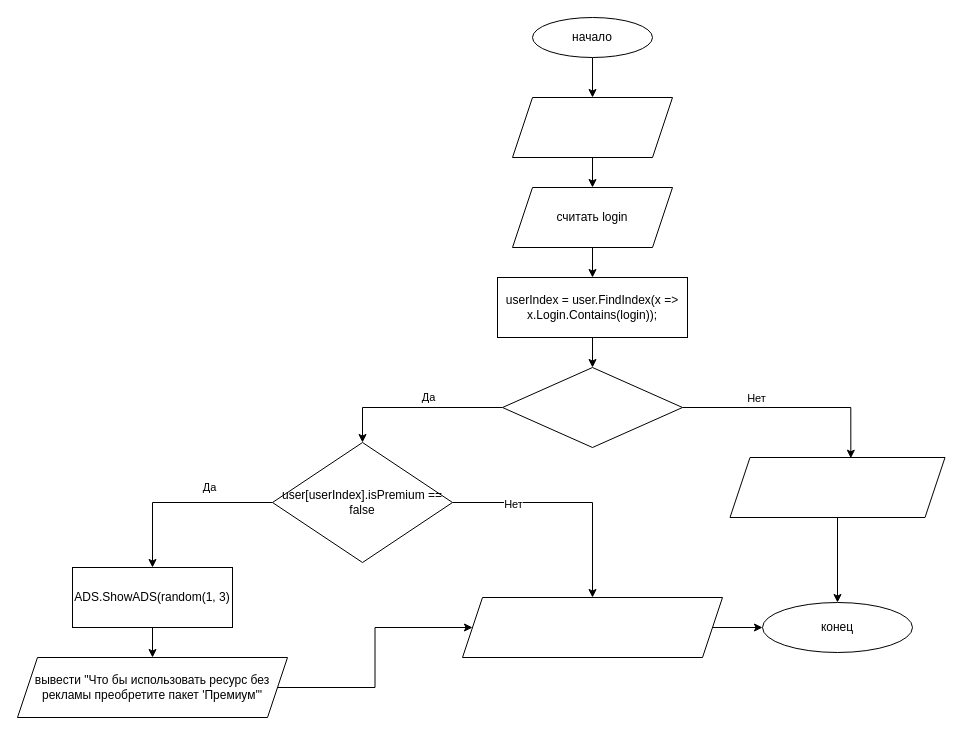
The diagram is 963 pixels wide and 735 high, and some of its shapes have lost their labels. The box of each missing label's shape, as (x1, y1, x2, y2) in pixels:
userIndex > -1: (502, 366, 682, 448)
вывести "{user[userIndex].Name}, добро пожаловать на сайт!": (462, 596, 722, 658)
вывести "Авторизация Введите свой логин:": (512, 96, 672, 158)
вывести "Пользователь с указанным логином не найден": (729, 456, 945, 518)
